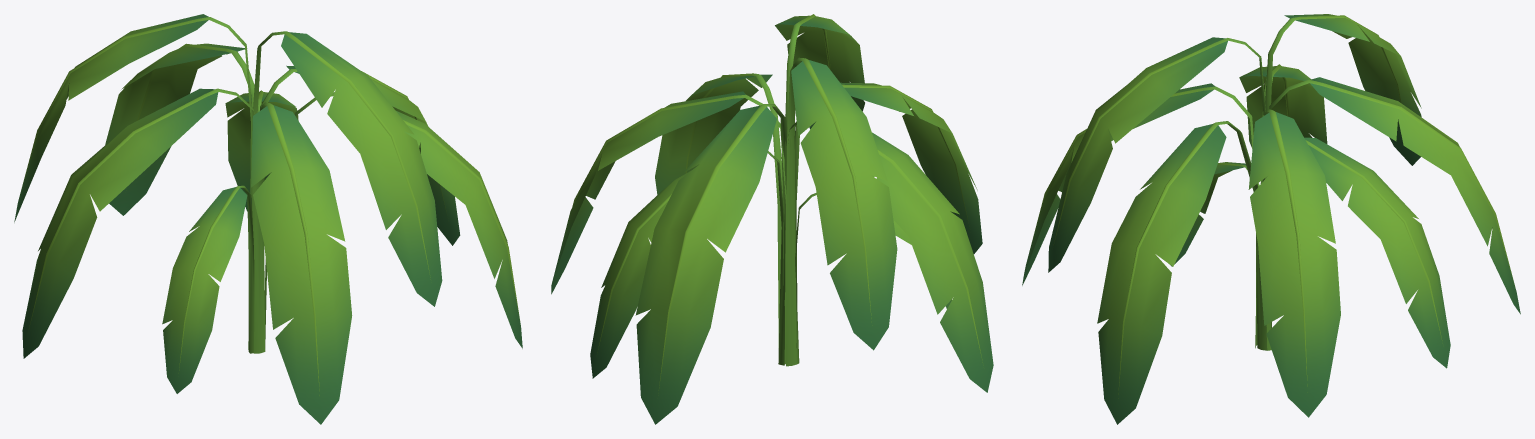
File: plant_31.fbx
The picture shows the model from 3 angles, left to right: view 1: azimuth 30°, elevation 25°; view 2: azimuth 150°, elevation 25°; view 3: azimuth 270°, elevation 25°; orthographic projection. The views are drawn at different scales.
Parts seen in each view (by area): view 1: plant_31; view 2: plant_31; view 3: plant_31.
Part boxes in pixels (bbox=[...]): plant_31: bbox=[14, 14, 522, 424]; plant_31: bbox=[551, 14, 993, 424]; plant_31: bbox=[1022, 14, 1520, 424].
Bounding box in the file's own units: 4.2 × 3.02 × 4.35.
